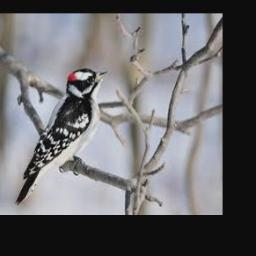Woodpecker: (15, 69, 110, 206)
